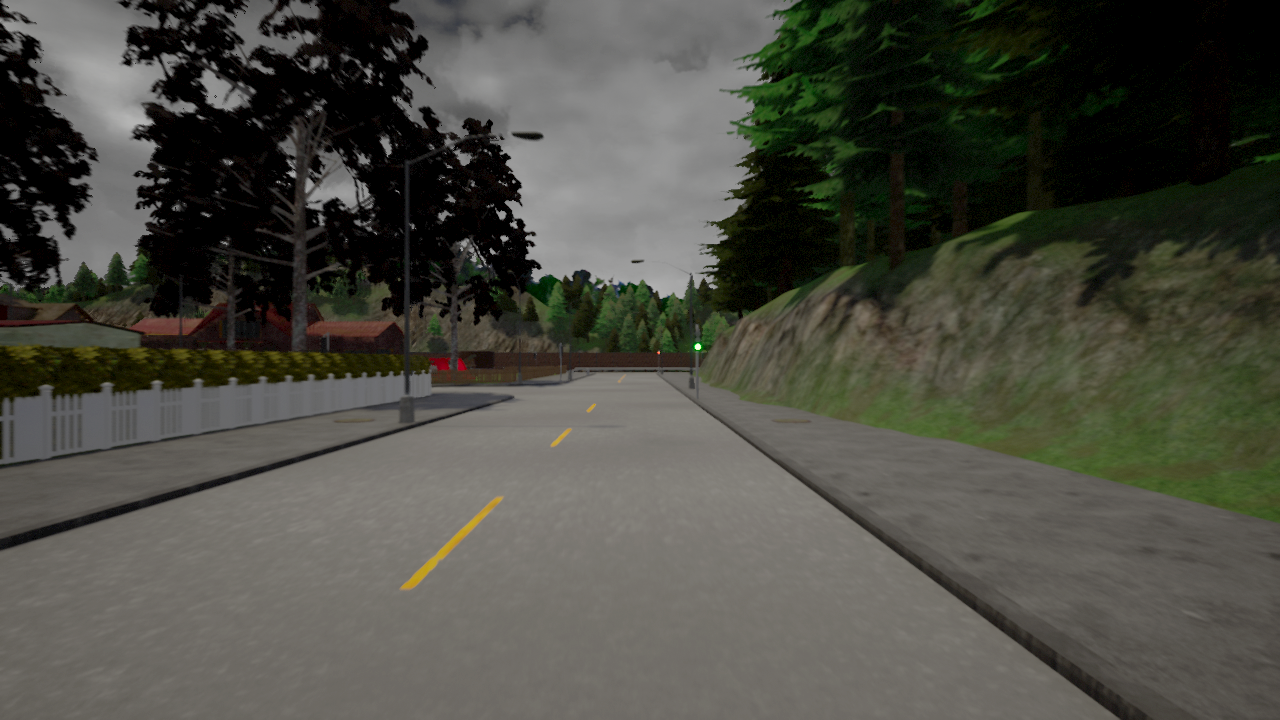green: (693, 331, 703, 352)
